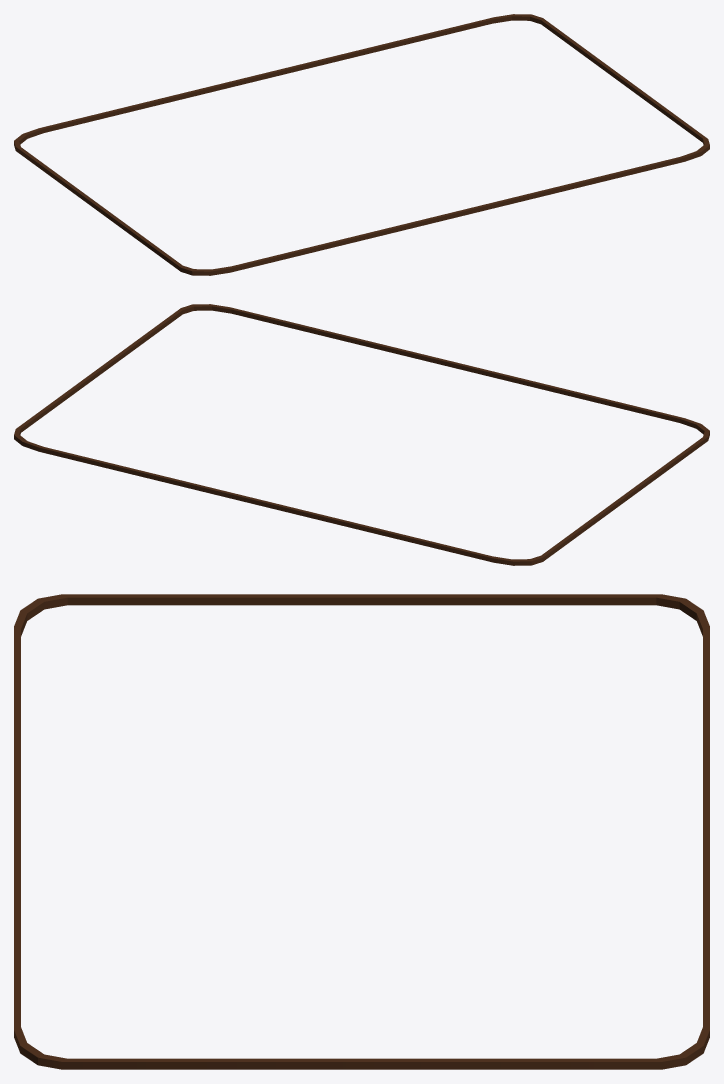
The model's file is Ice_Rink_Frame_FBX.fbx.
3 views of the same model, one above another, from view 1: azimuth 30°, elevation 25°; view 2: azimuth 150°, elevation 25°; view 3: azimuth 270°, elevation 25° (orthographic). The views are drawn at different scales.
Parts seen in each view (by area): view 1: Frame; view 2: Frame; view 3: Frame.
Part boxes in pixels (box(x1,y1,x2,y2)): Frame: box(14, 14, 709, 275); Frame: box(14, 304, 709, 565); Frame: box(14, 594, 709, 1069).
Bounding box in the file's own units: 11680 × 90 × 7348.
